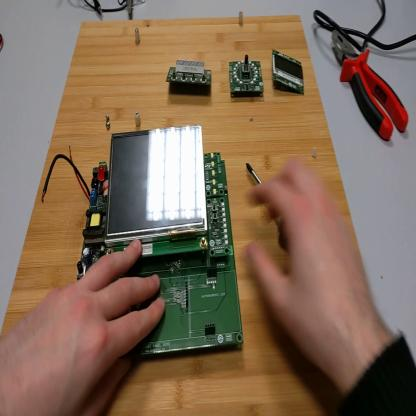hand: (245, 147, 378, 374), (2, 237, 166, 416)
low voltage board: (42, 116, 245, 357)
oscilloscope probe tip: (128, 1, 135, 20)
pliers: (331, 29, 409, 146)
screwdriver-: (247, 163, 300, 271)
working area: (3, 19, 374, 414)
